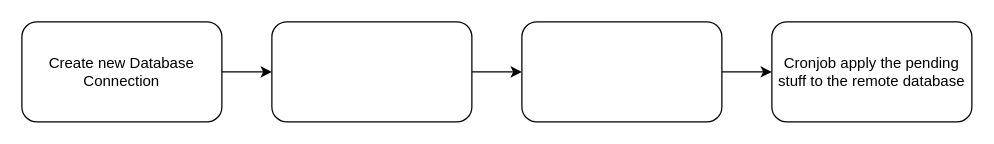
Image size: 994x144. Some labels were removed from this diagram. Each missing label, with the box of its shape:
Create a new Table: (271, 21, 472, 122)
Insert Into the Postgres Database with state pending: (521, 21, 722, 122)
